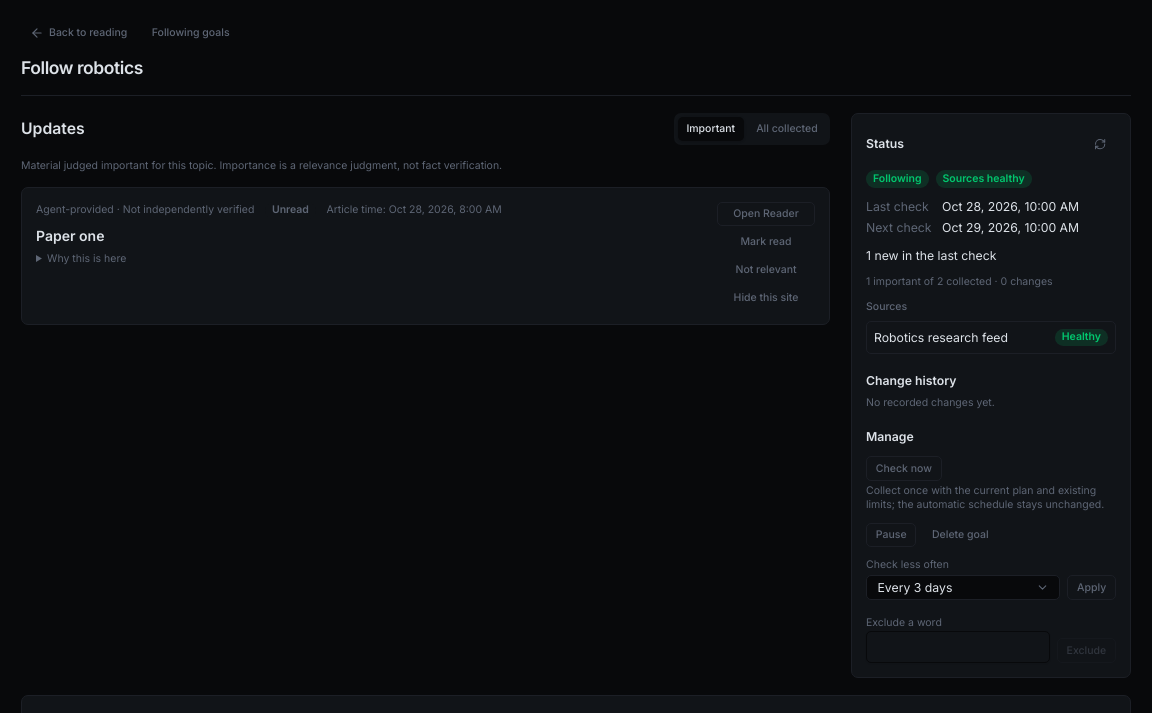
Test: keeps manual check failure retryable without claiming it was queued
Click the button "Check now" at (904, 469), box [866,456,942,481]
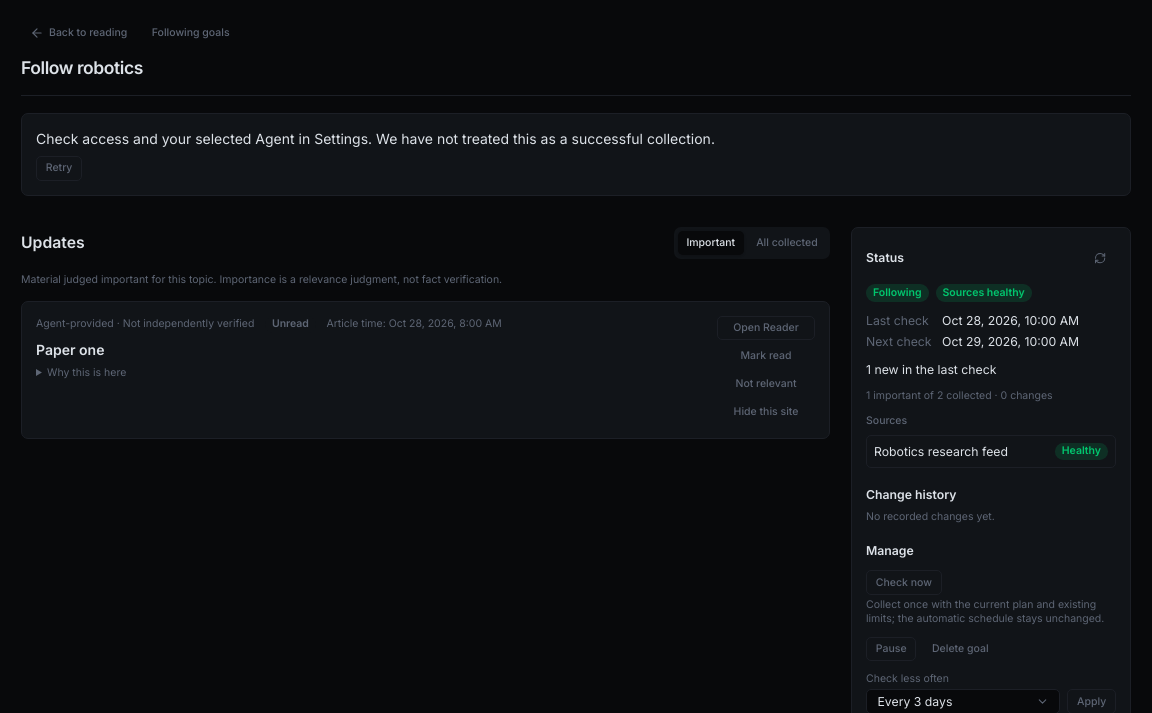
Expected: the text "Check queued. Results will appear here when collection finishes." is not shown
Now the 1st message is shown, box [21,113,1131,196]
Click the button "Check now" at (904, 583), box [866,570,942,595]
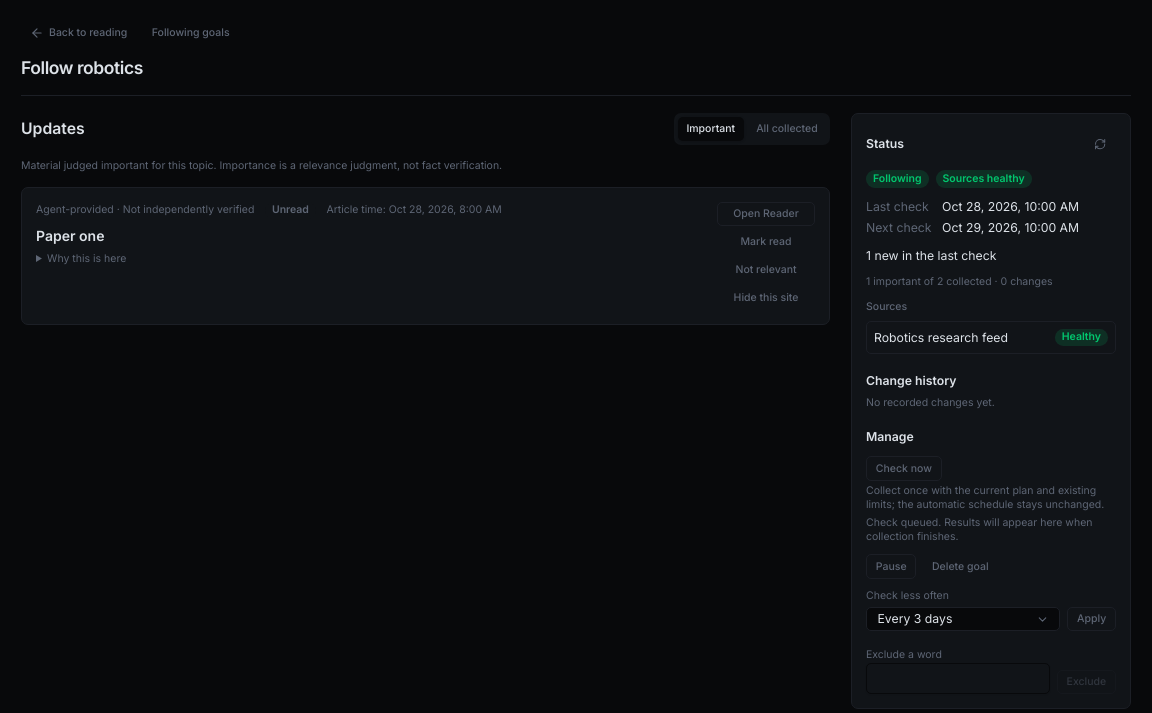
Now the text "Check queued. Results will appear here when collection finishes." is shown, box [866,516,1116,544]
